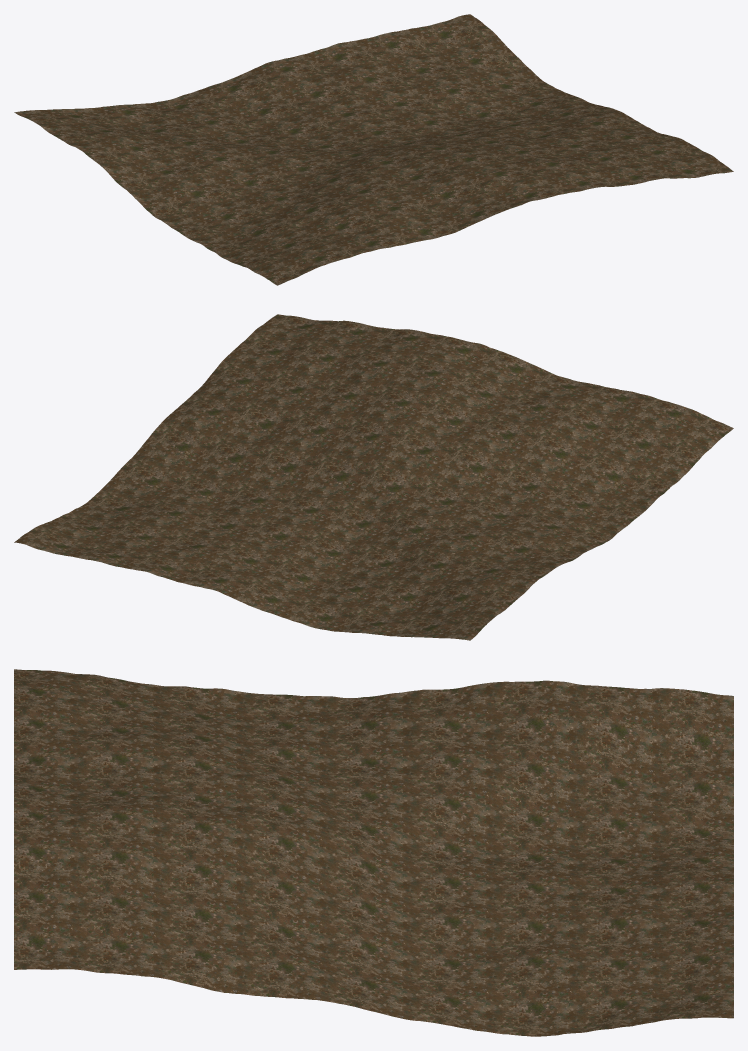
File: terrain.glb
3 views of the same model, one above another, from view 1: azimuth 30°, elevation 25°; view 2: azimuth 150°, elevation 25°; view 3: azimuth 270°, elevation 25° (orthographic). The views are drawn at different scales.
Parts seen in each view (by area): view 1: terrain; view 2: terrain; view 3: terrain.
Part boxes in pixels (x1,y1,x2,y2): terrain: (14, 14, 733, 285); terrain: (14, 314, 733, 640); terrain: (14, 669, 733, 1036).
Size of the model in its own units: 300 by 43.35 by 300.
1 material, 1 textured.
